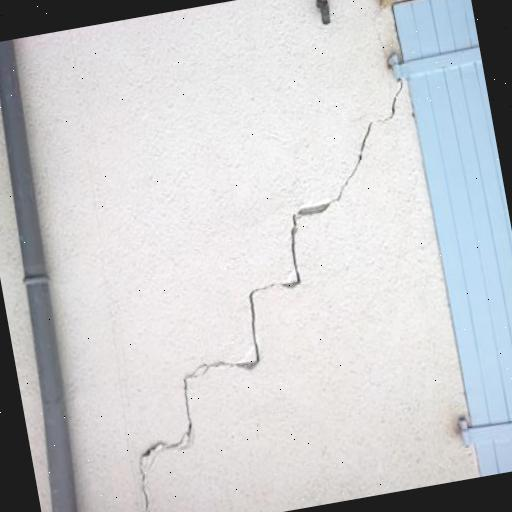spalling: (128, 116, 384, 512)
